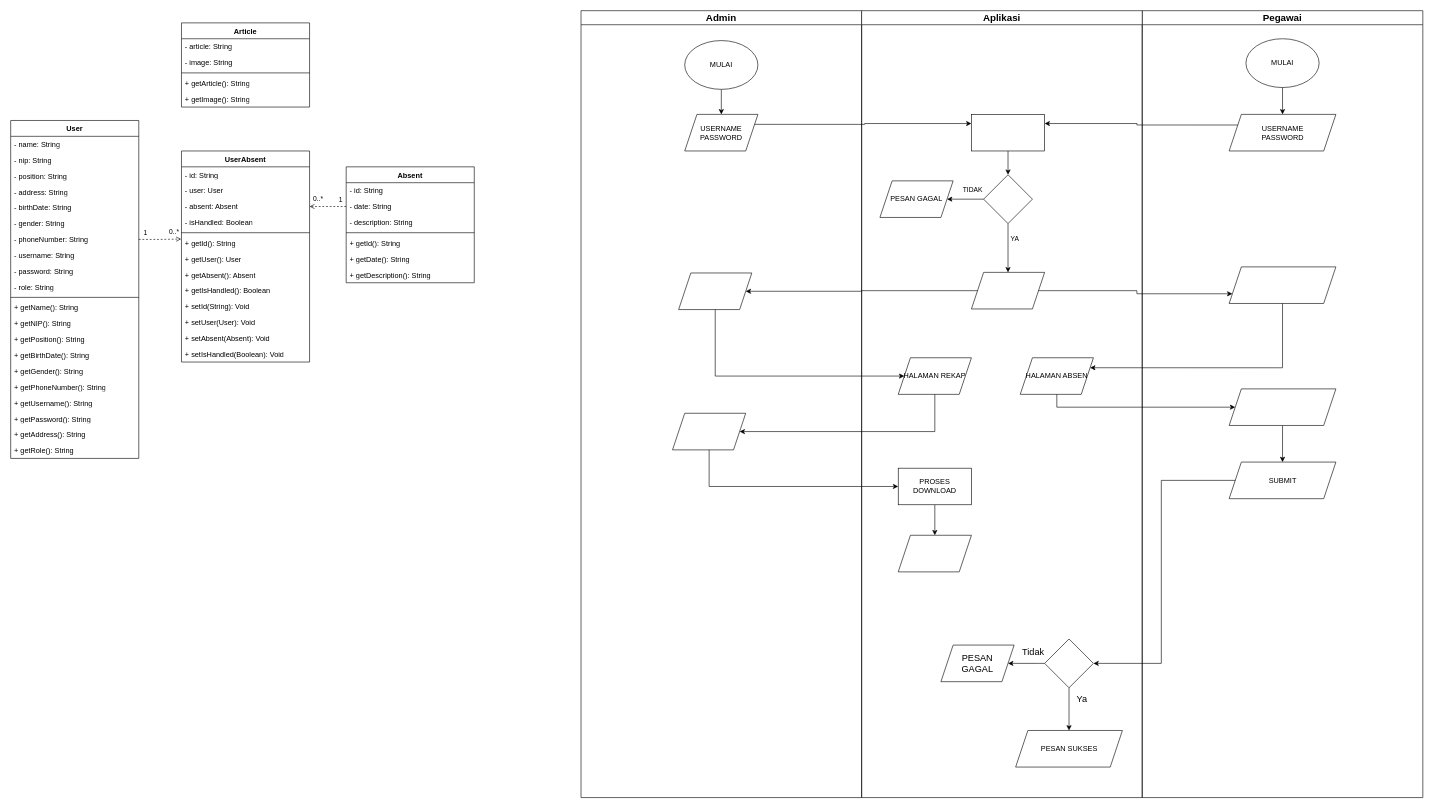
The diagram is 1434 pixels wide and 808 high, and some of its shapes have lost their labels. Here are the shapes that lost their labels. From the top down, the centre of each, then its label:
At (1008,132): "VALIDASI LOGIN".
At (1007,199): "VALID".
At (715,291): "KLIK MENU REKAP".
At (1008,290): "HALAMAN UTAMA".
At (1282,284): "KLIK MENU ABSEN".
At (1282,406): "PILIH TIPE KEHADIRAN".
At (709,431): "KLIK DOWNLOAD".
At (934,553): "BERKAS REKAP".
At (1068,663): "TERKIRIM".
